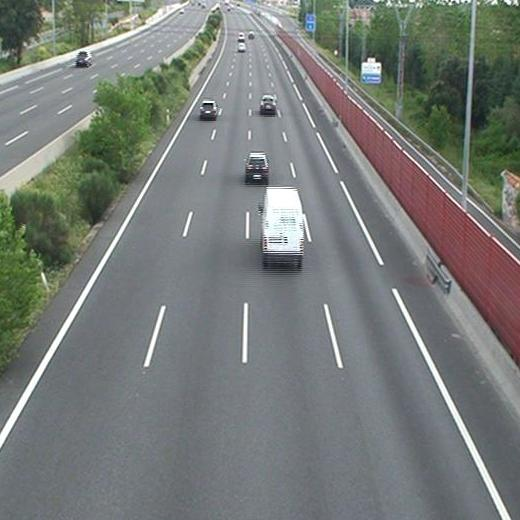car: (245, 153, 269, 180), (199, 100, 216, 117), (260, 96, 275, 112), (236, 42, 245, 52)
van: (261, 187, 303, 263)
